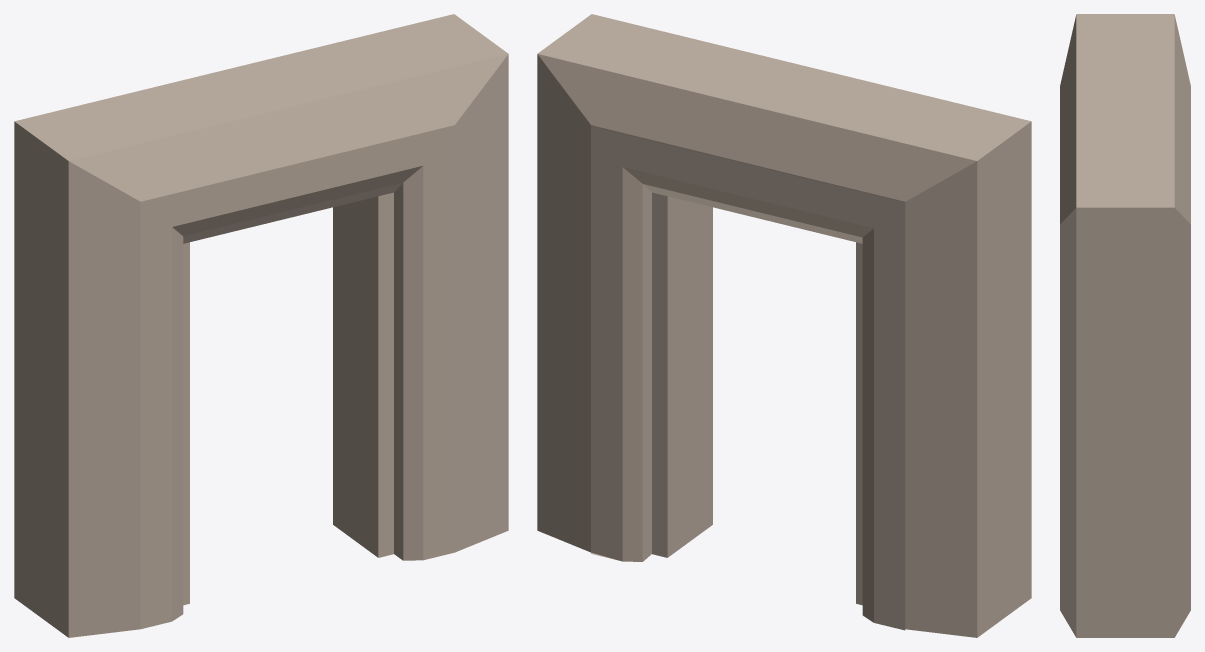
File: greek_doorway_1.fbx
3 views of the same model, side by side, from view 1: azimuth 30°, elevation 25°; view 2: azimuth 150°, elevation 25°; view 3: azimuth 270°, elevation 25° (orthographic). The views are drawn at different scales.
Visible parts, largest first — view 1: Cube.030; view 2: Cube.030; view 3: Cube.030.
Boxes of the visible parts, box(x1,y1,x2,y2) form: Cube.030: box(14, 14, 508, 637); Cube.030: box(537, 14, 1031, 637); Cube.030: box(1060, 14, 1190, 637).
Size of the model in its own units: 280 by 291 by 80.
